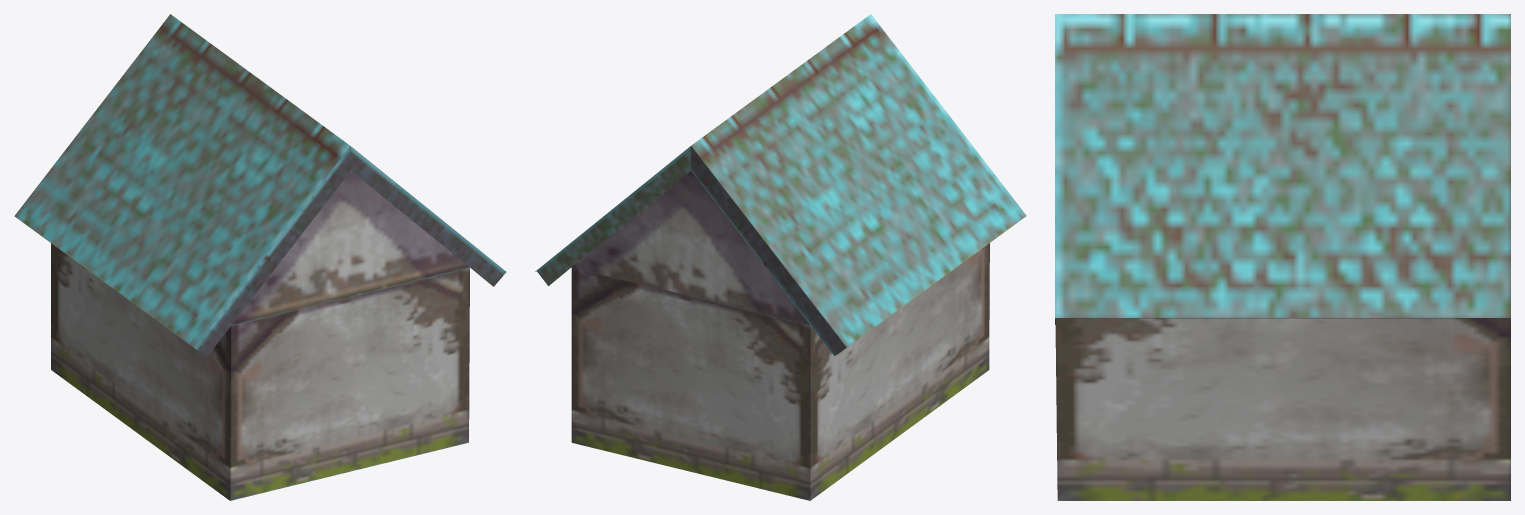
File: house_RO.dae
The picture shows the model from 3 angles, left to right: view 1: azimuth 30°, elevation 25°; view 2: azimuth 150°, elevation 25°; view 3: azimuth 270°, elevation 25°; orthographic projection. The views are drawn at different scales.
Visible parts, largest first — view 1: house1; view 2: house1; view 3: house1.
Part boxes in pixels (bbox=[...]): house1: bbox=[14, 14, 506, 500]; house1: bbox=[535, 14, 1026, 500]; house1: bbox=[1055, 14, 1510, 500].
Bounding box in the file's own units: 4 × 4 × 4.
Materials: 1 (1 with a texture image).
